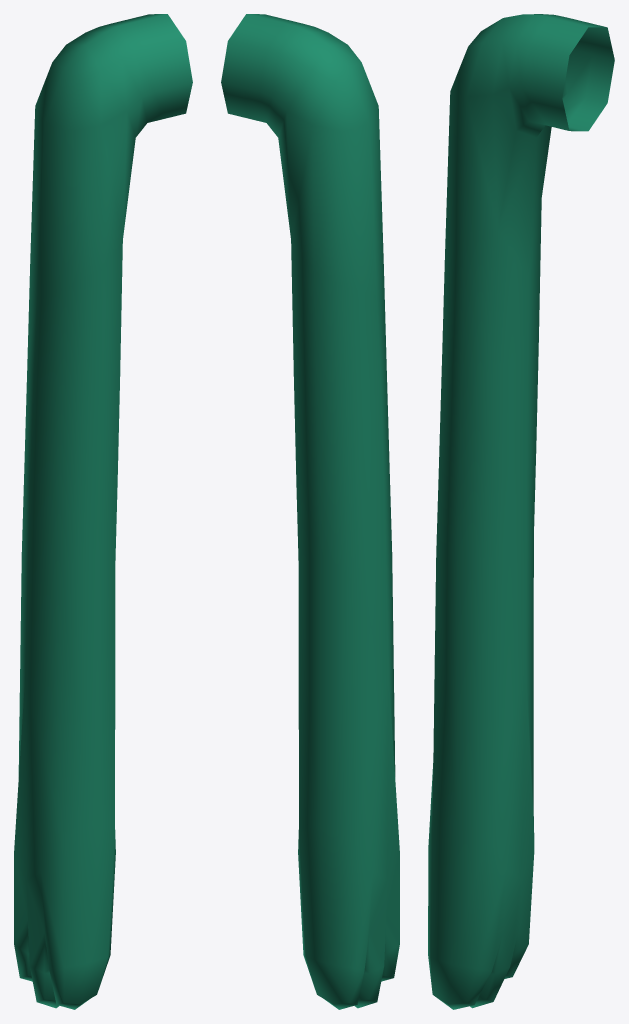
File: Bmo_brazo_izq.obj
3 renders of one model, left to right at view 1: azimuth 30°, elevation 25°; view 2: azimuth 150°, elevation 25°; view 3: azimuth 330°, elevation 25°, orthographic. The views are drawn at different scales.
Visible parts, largest first — view 1: Bmo_brazo_izq; view 2: Bmo_brazo_izq; view 3: Bmo_brazo_izq.
Boxes of the visible parts, <box> form: Bmo_brazo_izq: <box>14,14,192,1009</box>; Bmo_brazo_izq: <box>221,14,399,1009</box>; Bmo_brazo_izq: <box>428,14,614,1009</box>.
Bounding box in the file's own units: 0.0983 × 0.6389 × 0.0629.
